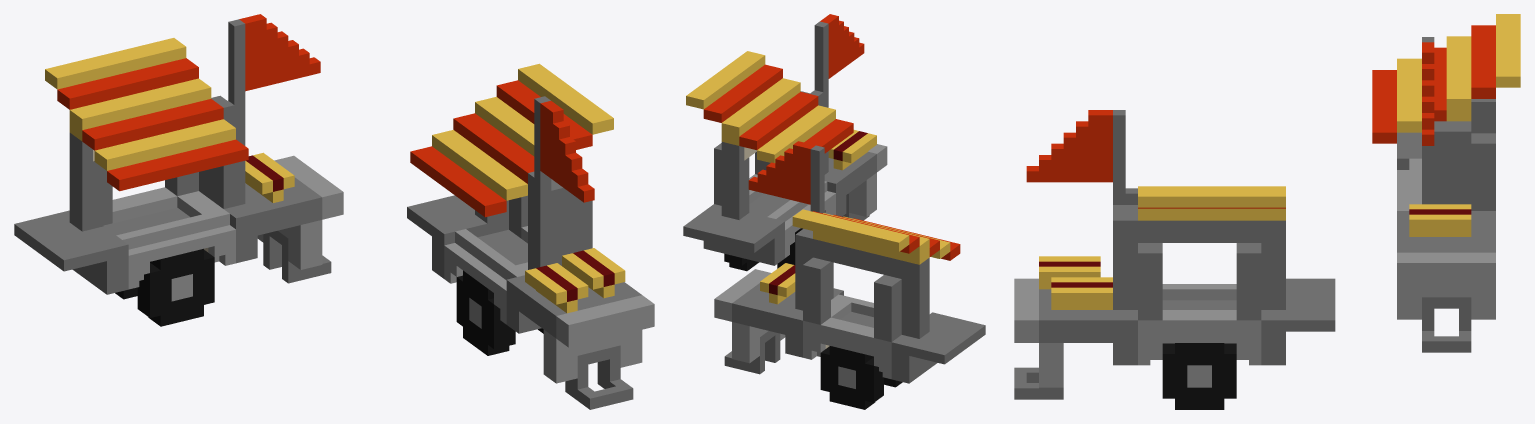
File: hot_dog_stands.obj
The picture shows the model from 3 angles, left to right: view 1: azimuth 30°, elevation 25°; view 2: azimuth 150°, elevation 25°; view 3: azimuth 270°, elevation 25°; orthographic projection. The views are drawn at different scales.
Visible parts, largest first — view 1: hot_dog_stands; view 2: hot_dog_stands; view 3: hot_dog_stands.
Part boxes in pixels (x1,y1,x2,y2): hot_dog_stands: (14,14,654,409); hot_dog_stands: (683,14,985,409); hot_dog_stands: (1014,14,1520,409).
Bounding box in the file's own units: 39 × 24 × 41.
Materials: 1 (1 with a texture image).
